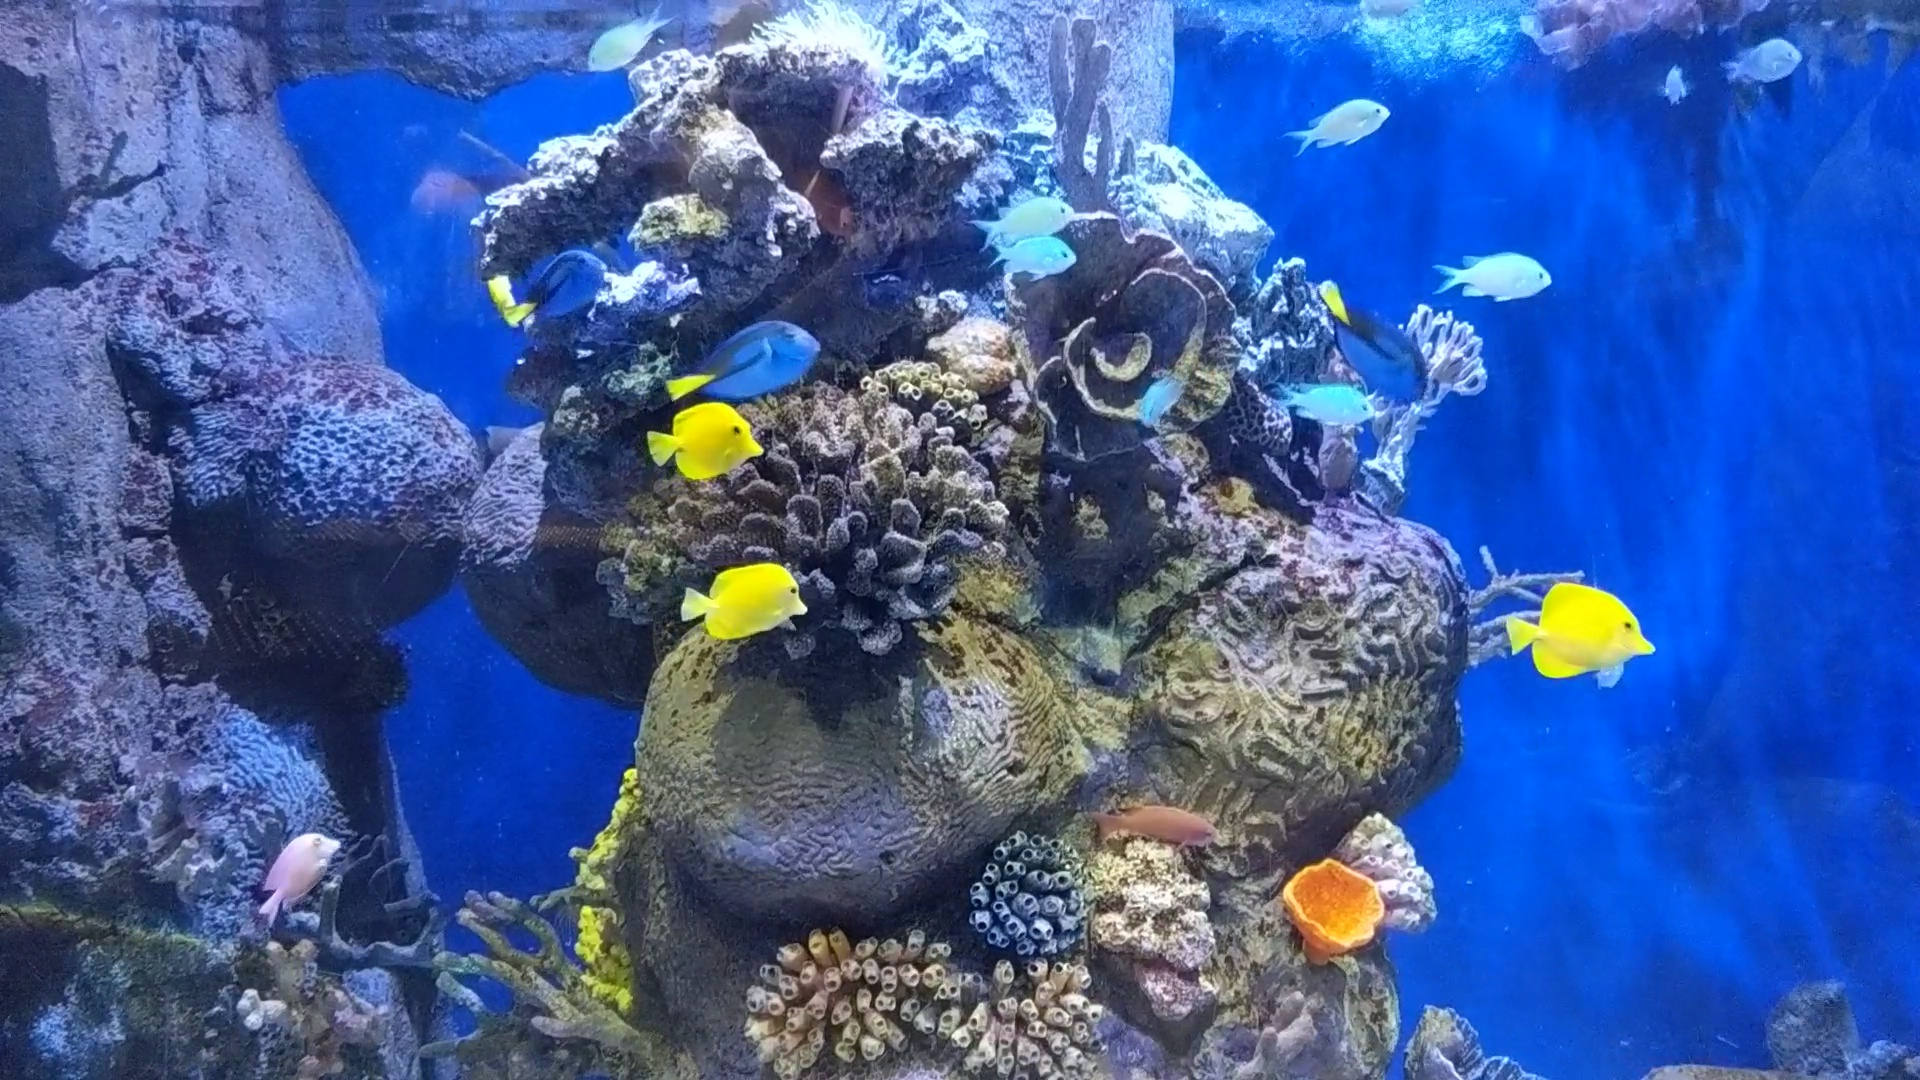blue tang surgeonfish: (1316, 278, 1428, 407), (666, 319, 832, 400), (500, 244, 612, 347)
damselfish: (1261, 371, 1385, 438), (1429, 244, 1556, 305), (574, 7, 676, 79), (1282, 98, 1400, 158), (968, 186, 1083, 248), (988, 235, 1083, 285), (1131, 368, 1189, 444), (1725, 36, 1808, 88), (1652, 54, 1701, 109)
saddle butterfly fish: (1505, 582, 1662, 686), (676, 555, 811, 657), (644, 400, 765, 491), (473, 231, 560, 338)
